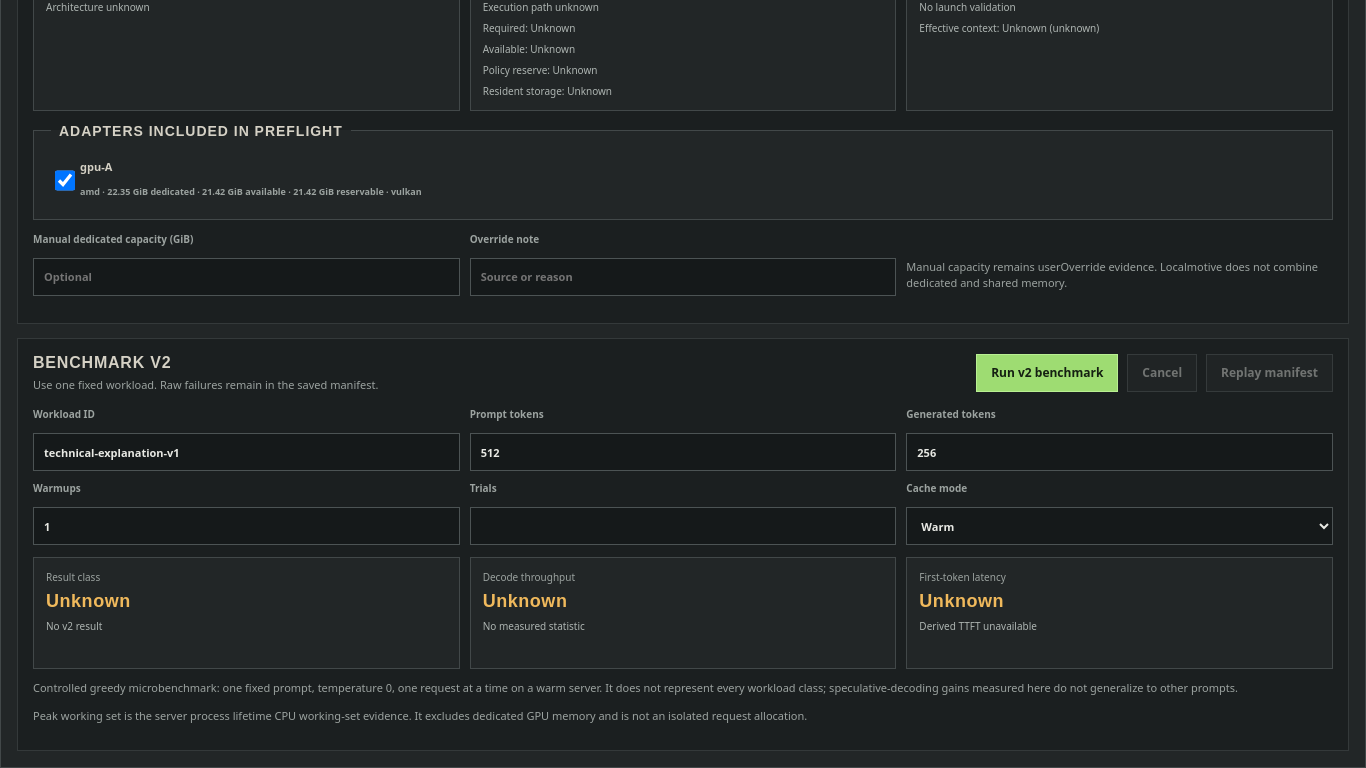
Test case: benchmark workload editing › keeps a cleared Benchmark trials field blank
The image size is (1366, 768).
(page scrolled)
Expected: the button "Run v2 benchmark" is enabled, [976, 354, 1118, 392]
Clear the field labelled "Trials". click: (683, 526)
box: [470, 507, 896, 545]
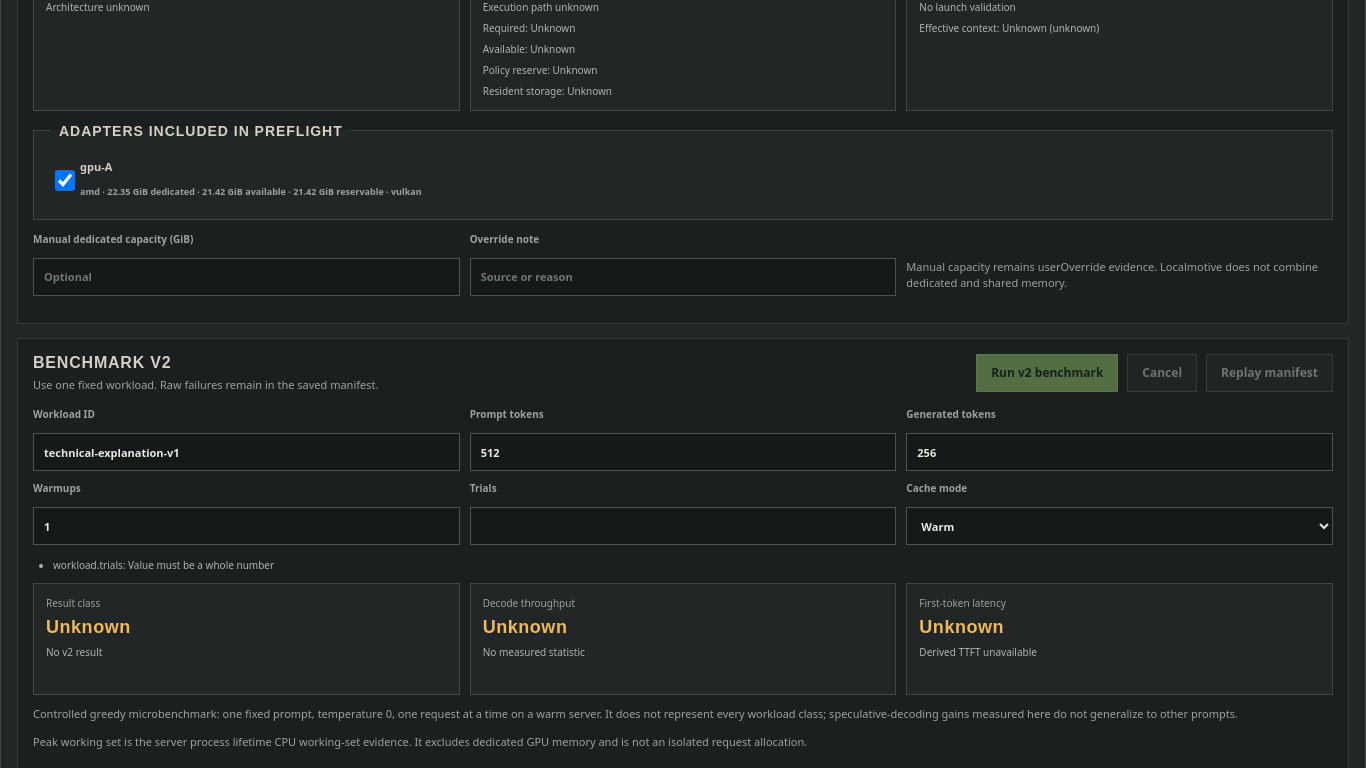
Expected: the button "Run v2 benchmark" is disabled, [976, 354, 1118, 392]
